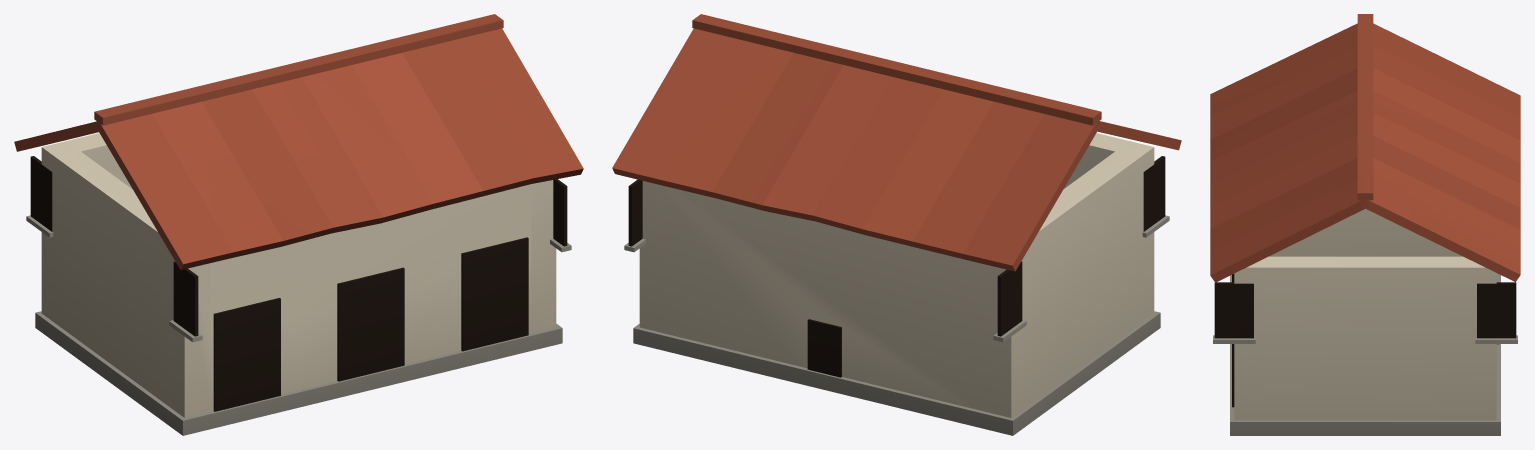
The model's file is independence_hacienda_lod0.glb.
3 renders of one model, left to right at view 1: azimuth 30°, elevation 25°; view 2: azimuth 150°, elevation 25°; view 3: azimuth 270°, elevation 25°, orthographic. The views are drawn at different scales.
Parts seen in each view (by area): view 1: GEO-Arch_independence_hacienda_LOD0; view 2: GEO-Arch_independence_hacienda_LOD0; view 3: GEO-Arch_independence_hacienda_LOD0.
Part boxes in pixels (<box>): GEO-Arch_independence_hacienda_LOD0: <box>14,14,583,435</box>; GEO-Arch_independence_hacienda_LOD0: <box>612,14,1181,435</box>; GEO-Arch_independence_hacienda_LOD0: <box>1210,14,1520,435</box>.
Bounding box in the file's own units: 9.7 × 6.24 × 7.1.
